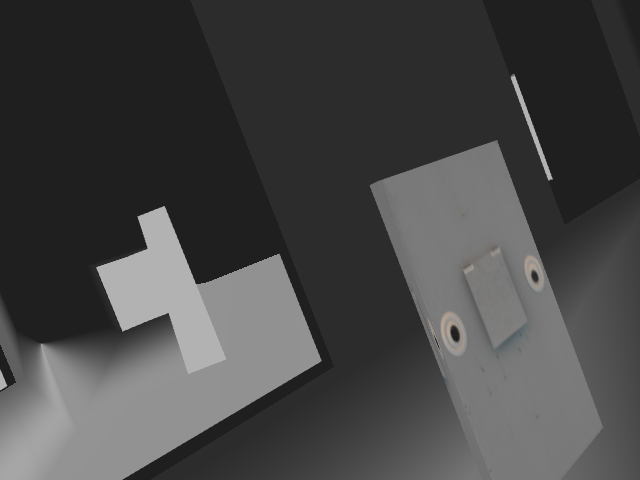facade: (439, 245, 545, 363)
